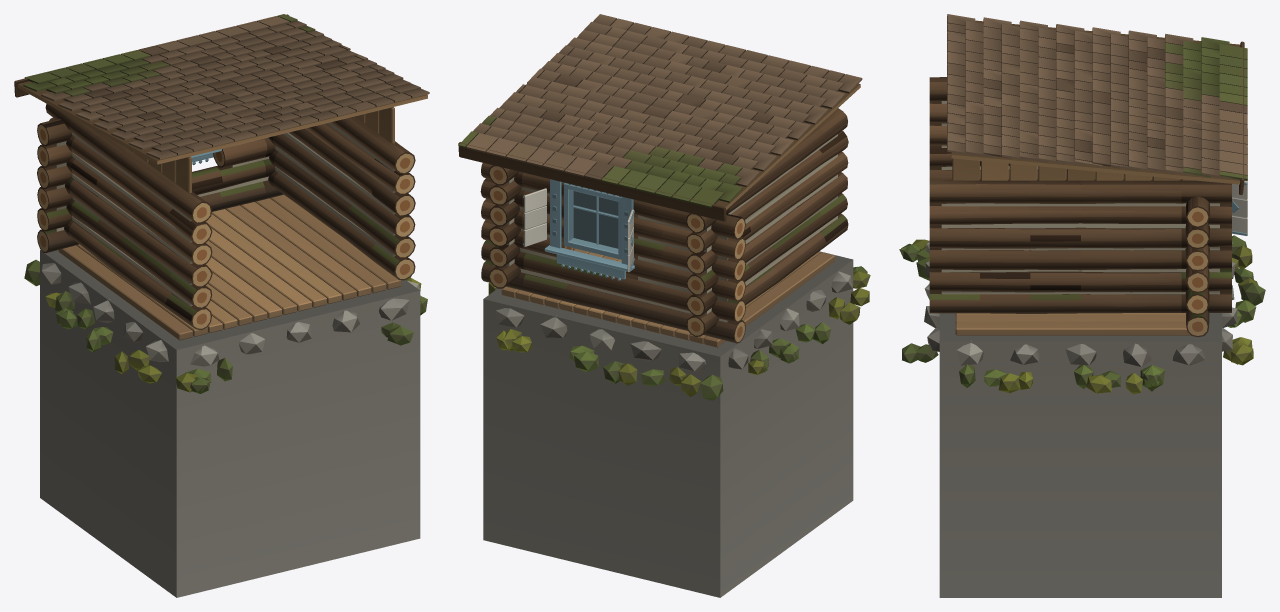
File: ev_oda.glb
3 views of the same model, side by side, from view 1: azimuth 30°, elevation 25°; view 2: azimuth 150°, elevation 25°; view 3: azimuth 270°, elevation 25° (orthographic). The views are drawn at different scales.
Parts seen in each view (by area): view 1: stone-plinth-001, shingle-001, plank-001, stone-found-004, log-021, stone-found-002, log-009, log-017, log-005, log-006, log-013, log-010 (+14 smaller); view 2: stone-plinth-001, shingle-001, stone-found-003, plank-trim-002, log-004, log-001, plank-001, stone-found-004, dark-001, log-017, log-009, log-005 (+16 smaller); view 3: stone-plinth-001, shingle-001, log-022, log-006, log-014, log-010, log-018, log-003, plank-001, stone-found-005, plank-gable-006, stone-found-003 (+9 smaller).
Part boxes in pixels (x1,y1,x2,y2): stone-plinth-001: (40, 250, 420, 597); shingle-001: (17, 14, 429, 164); plank-001: (58, 194, 401, 340); stone-found-004: (38, 263, 168, 383); log-021: (45, 103, 211, 223); stone-found-002: (176, 298, 413, 393); log-009: (65, 177, 212, 287); log-017: (49, 117, 212, 245); log-005: (66, 200, 211, 308); log-006: (269, 150, 415, 258); log-013: (66, 157, 212, 265); log-010: (268, 134, 415, 237); stone-plinth-001: (483, 251, 853, 597); shingle-001: (458, 14, 862, 209); stone-found-003: (496, 308, 723, 400); plank-trim-002: (544, 179, 634, 281); log-004: (481, 240, 745, 322); log-001: (481, 260, 745, 343); plank-001: (501, 248, 834, 347); stone-found-004: (728, 271, 869, 375); dark-001: (458, 142, 726, 221); log-017: (686, 131, 848, 254); log-009: (686, 172, 847, 295); log-005: (686, 193, 847, 316); stone-plinth-001: (939, 313, 1221, 597); shingle-001: (947, 14, 1247, 184); log-022: (929, 179, 1231, 206); log-006: (929, 269, 1231, 294); log-014: (929, 225, 1231, 250); log-010: (929, 246, 1231, 272); log-018: (929, 203, 1231, 228); log-003: (929, 290, 1231, 313); plank-001: (955, 313, 1205, 335); stone-found-005: (956, 341, 1205, 394); plank-gable-006: (952, 158, 1197, 180); stone-found-003: (1222, 235, 1265, 365).
Bounding box in the file's own units: 4.63 × 6.22 × 4.54.
